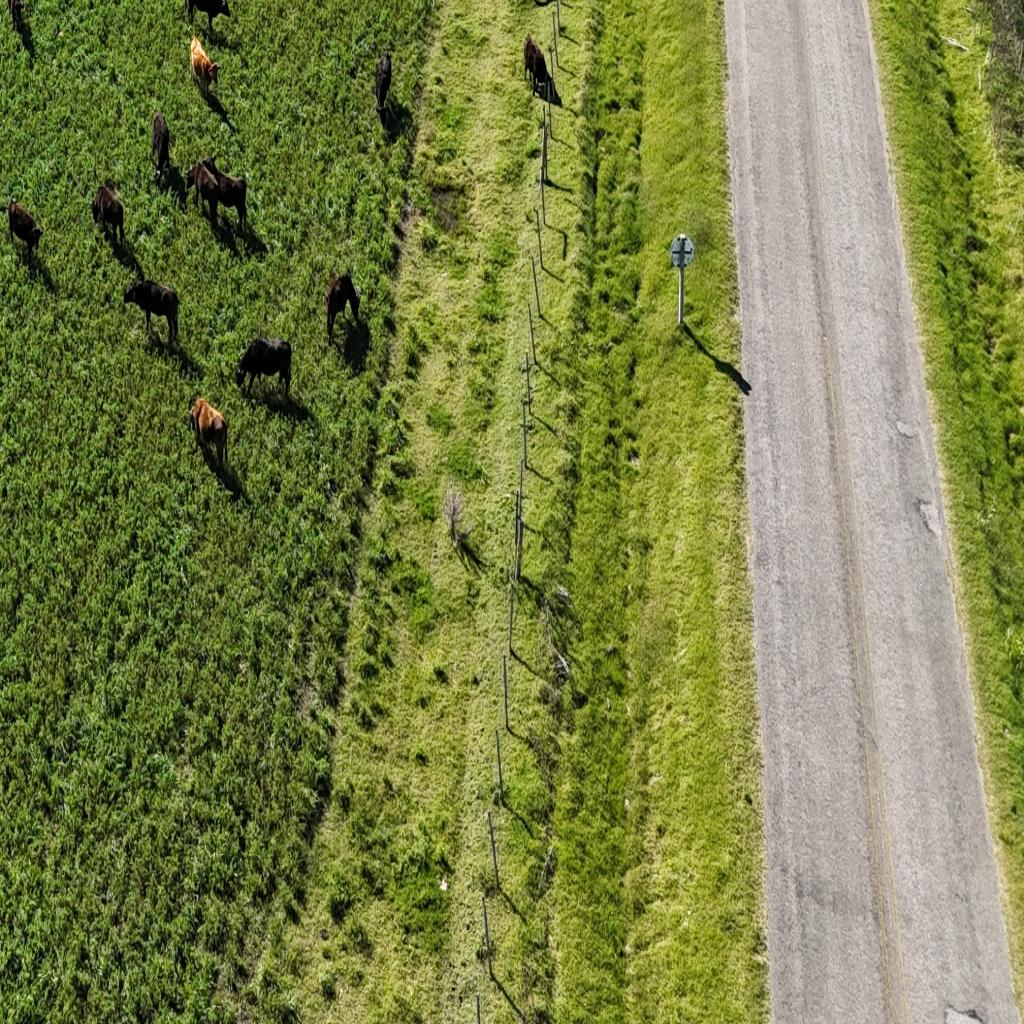cow: (123, 277, 182, 348), (235, 335, 291, 401), (322, 270, 362, 358), (208, 154, 248, 232), (188, 396, 228, 470), (8, 196, 45, 263), (188, 157, 218, 231), (91, 185, 124, 248), (189, 34, 220, 97), (374, 51, 396, 132), (523, 32, 550, 98), (150, 110, 172, 188), (185, 0, 228, 34), (6, 0, 24, 31), (185, 0, 197, 24)
